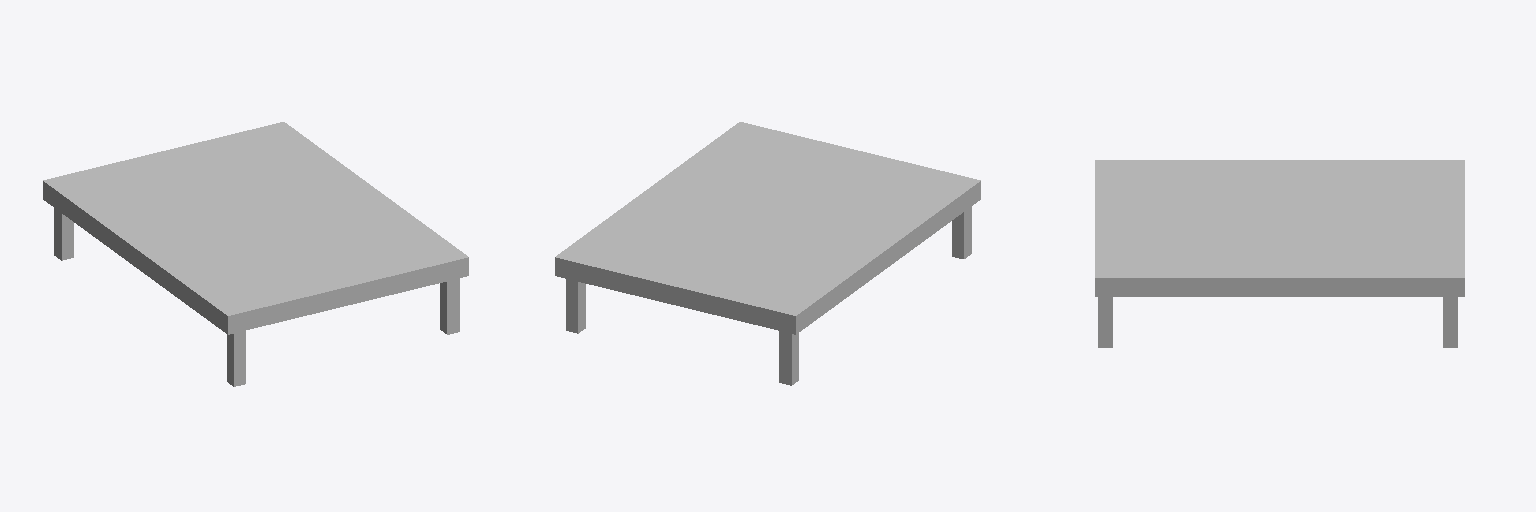
Rendered from Bed Frame 2.obj.
The picture shows the model from 3 angles: view 1: azimuth 30°, elevation 25°; view 2: azimuth 150°, elevation 25°; view 3: azimuth 270°, elevation 25°; orthographic projection.
Parts seen in each view (by area): view 1: Bed_Frame_2; view 2: Bed_Frame_2; view 3: Bed_Frame_2.
Boxes of the visible parts, box(x1,y1,x2,y2) form: Bed_Frame_2: box(43, 122, 468, 386); Bed_Frame_2: box(555, 122, 980, 385); Bed_Frame_2: box(1095, 160, 1464, 347).
Size of the model in its own units: 1.65 by 0.4838 by 2.19.